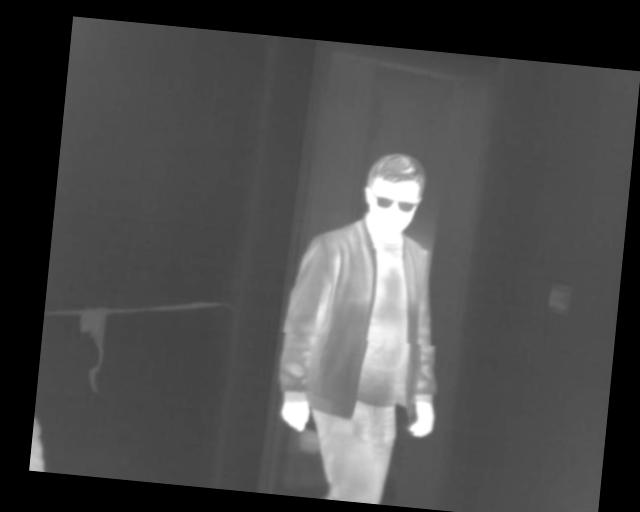face: (360, 148, 428, 238)
